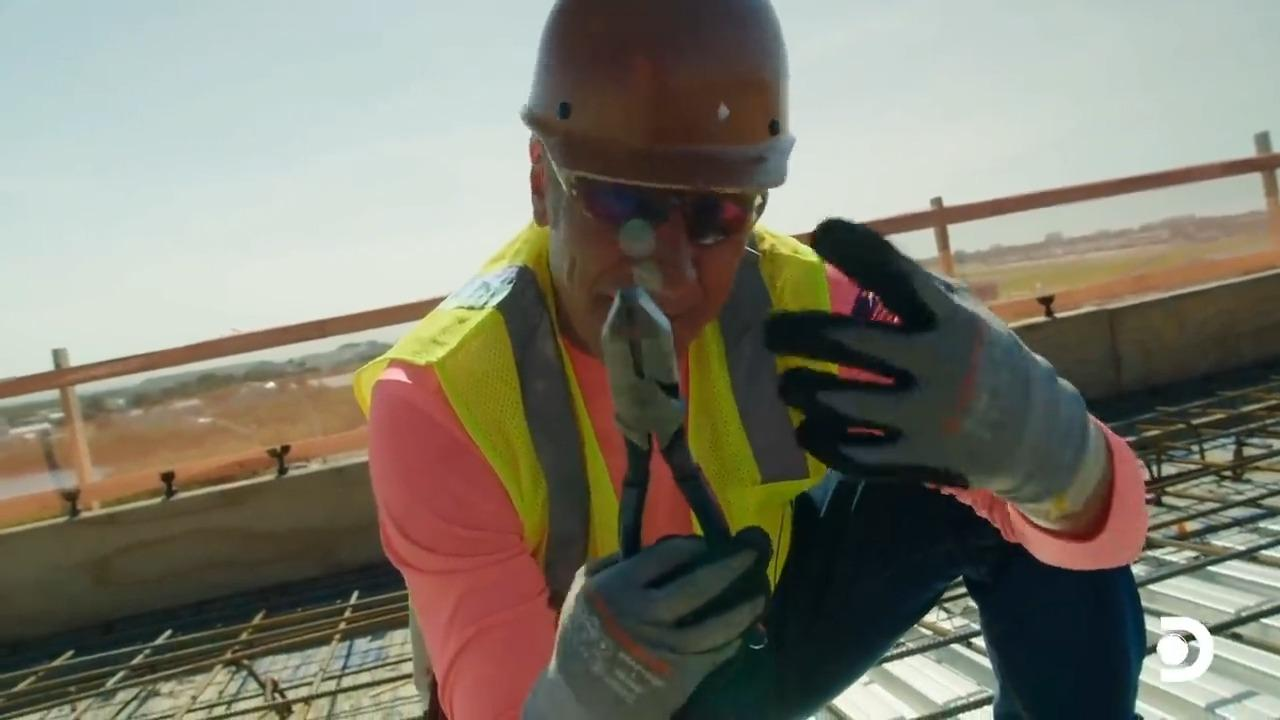Gloves: (787, 204, 1075, 504), (547, 524, 771, 699)
Helmet: (519, 0, 795, 193)
Person: (351, 0, 1150, 718)
Safety Vest: (436, 286, 804, 519)
